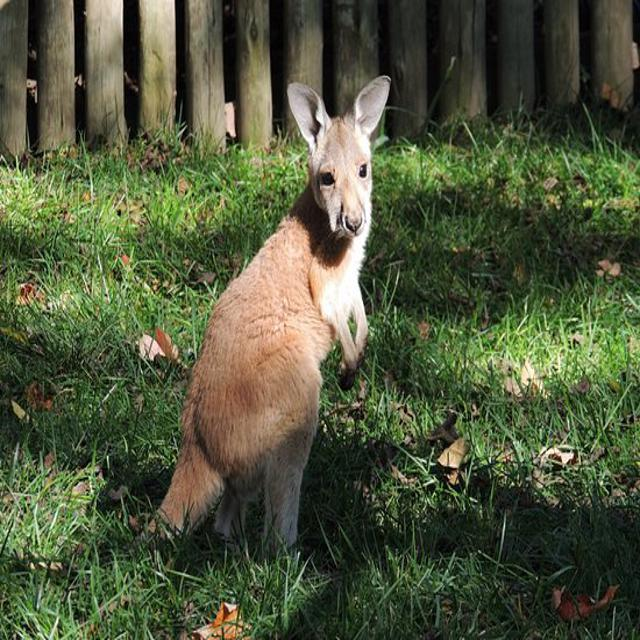kangaroo: (162, 75, 396, 551)
